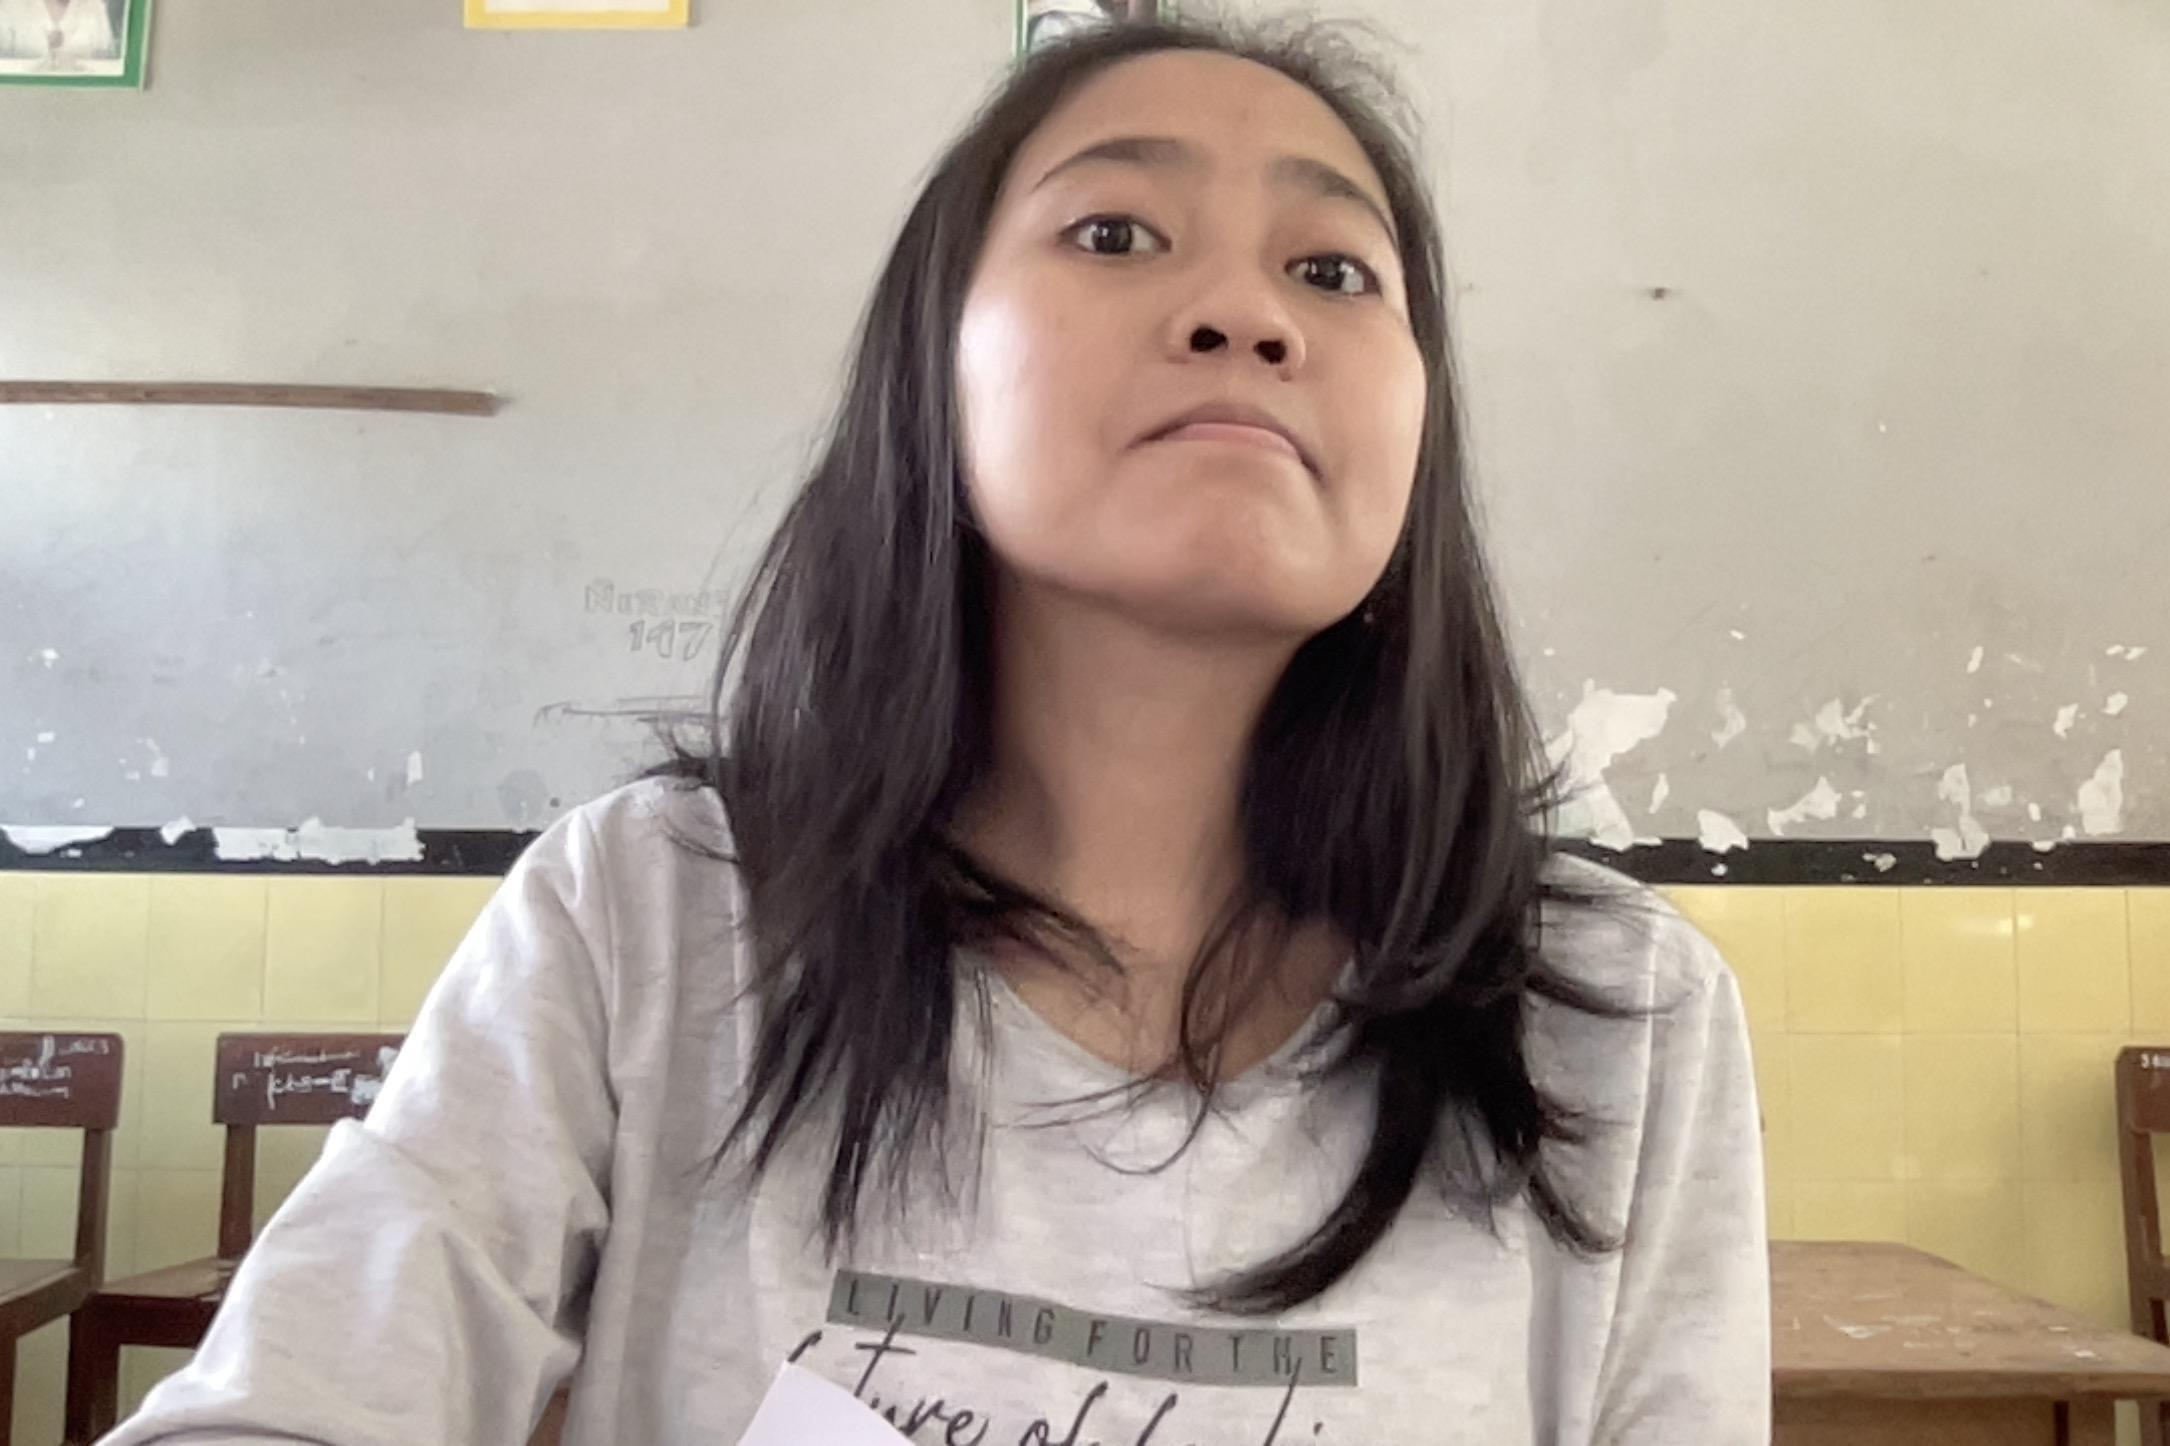cheating: (297, 15, 1841, 1436)
